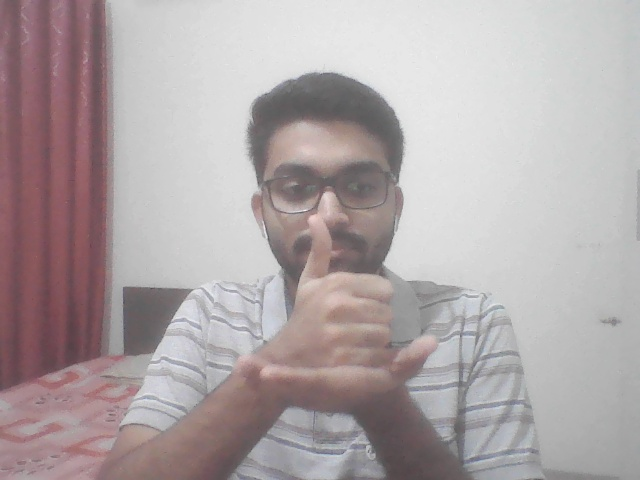help: (223, 189, 449, 440)
